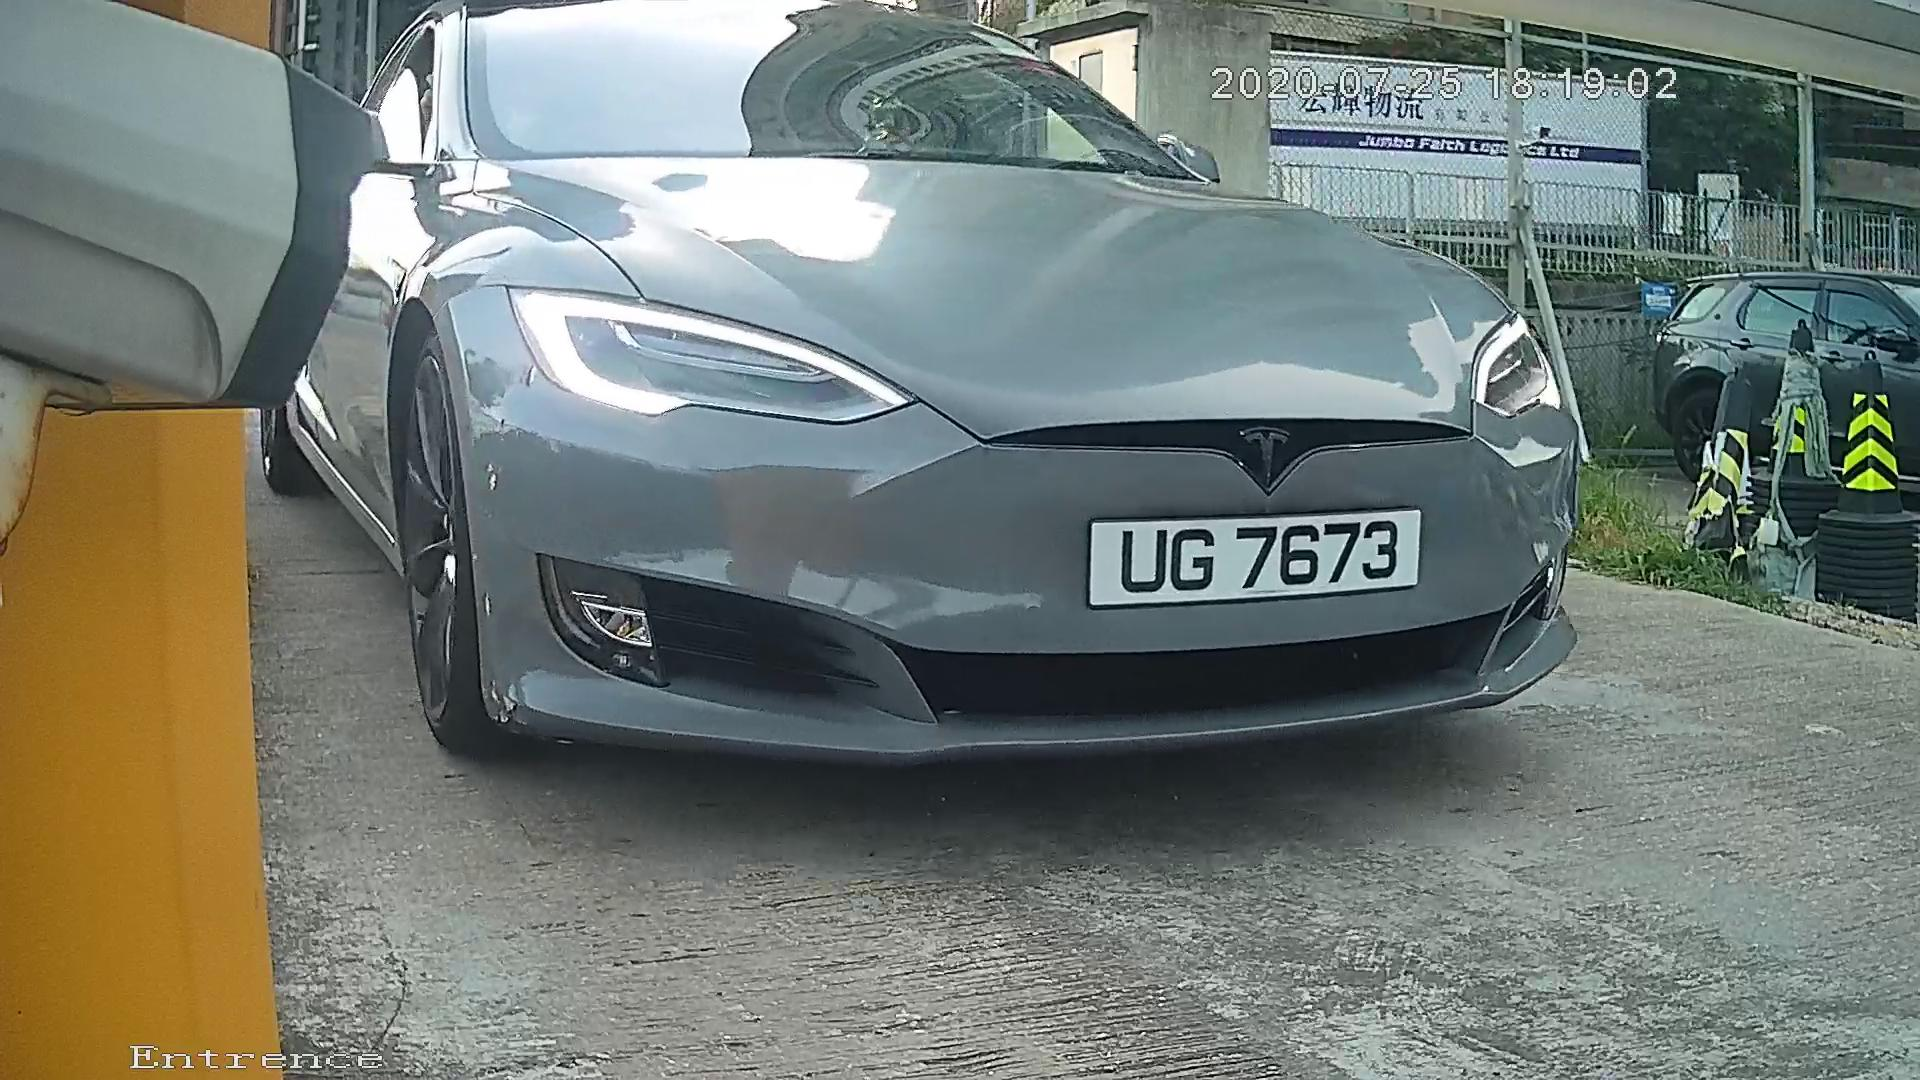License Plate: (1046, 502, 1449, 618)
